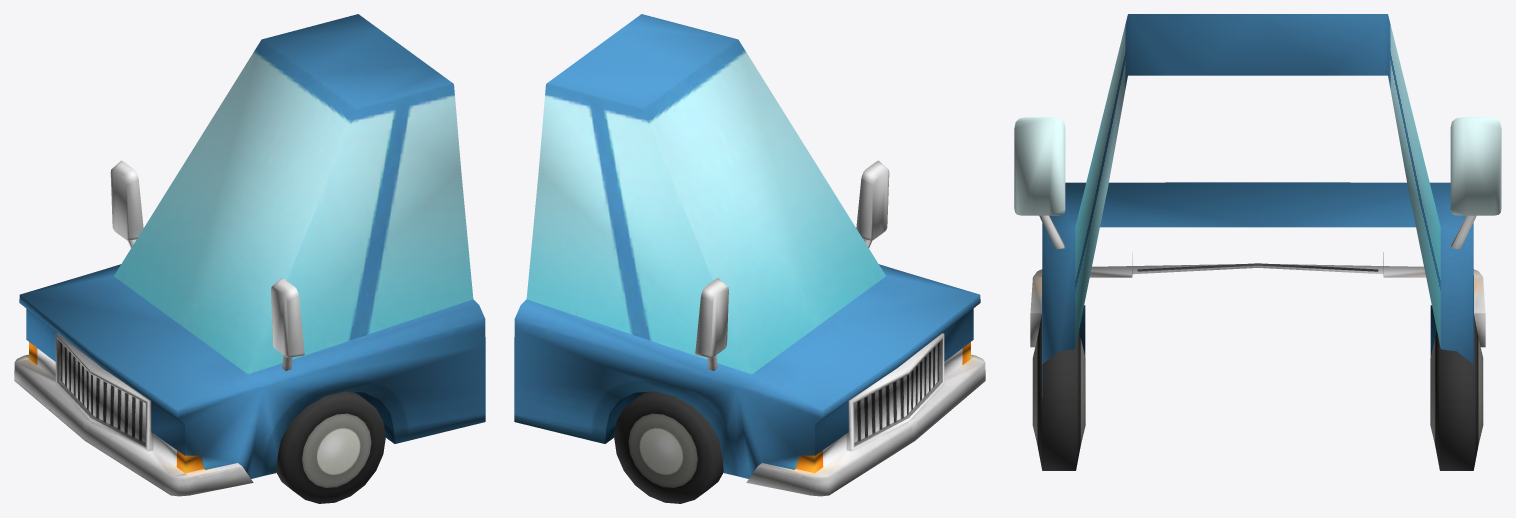
Rendered from car_right.glb.
3 renders of one model, left to right at view 1: azimuth 30°, elevation 25°; view 2: azimuth 150°, elevation 25°; view 3: azimuth 270°, elevation 25°, orthographic. The views are drawn at different scales.
Visible parts, largest first — view 1: car_right; view 2: car_right; view 3: car_right.
Part boxes in pixels (x1=…): car_right: x1=14, y1=14, x2=485, y2=503; car_right: x1=514, y1=14, x2=985, y2=503; car_right: x1=1014, y1=14, x2=1501, y2=470.
Bounding box in the file's own units: 0.6878 × 0.7344 × 0.6641.
Materials: 1 (1 with a texture image).
